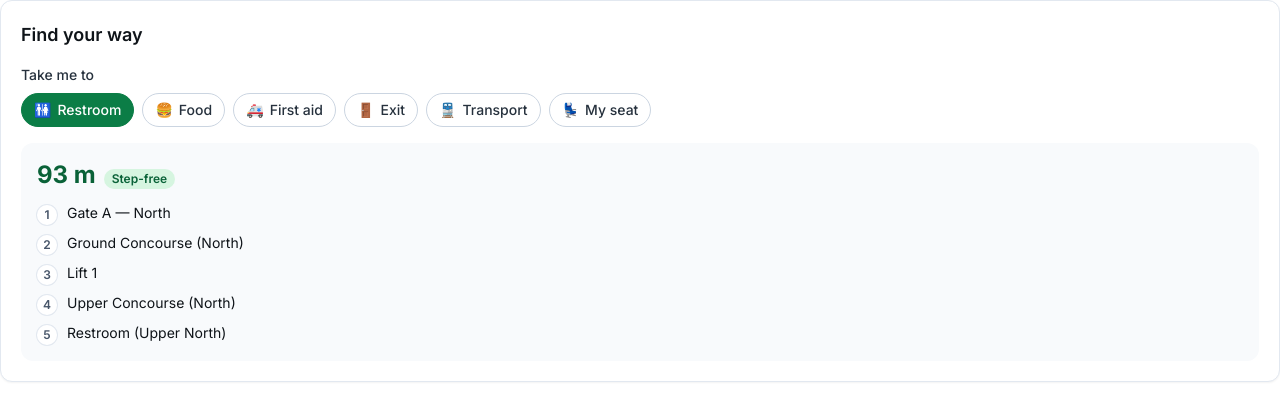
Test: RouteFinder › re-routes when the fan picks a different destination
Click the button "🚑 First aid" at (285, 110), box [233,93,336,127]
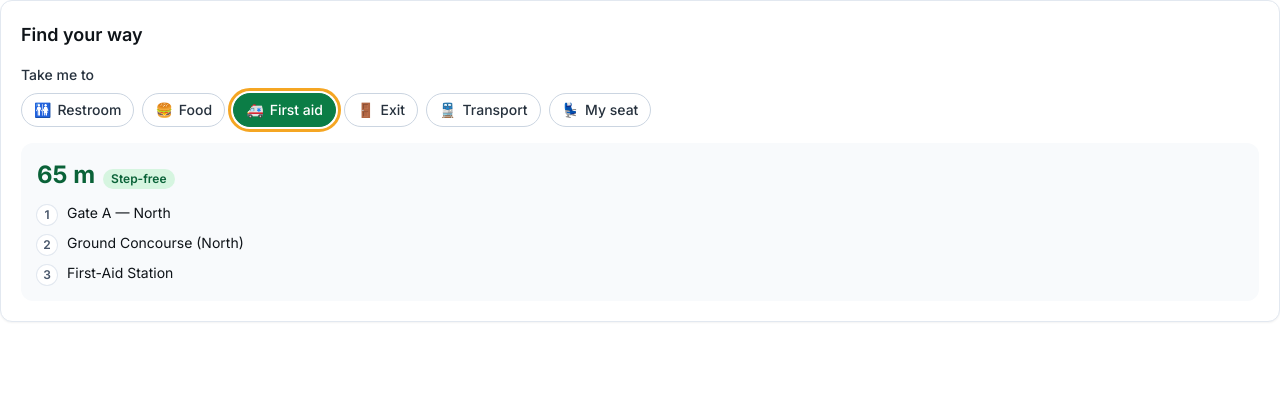
Expected: the list item "First-Aid Station" is shown, [67,264,173,281]
